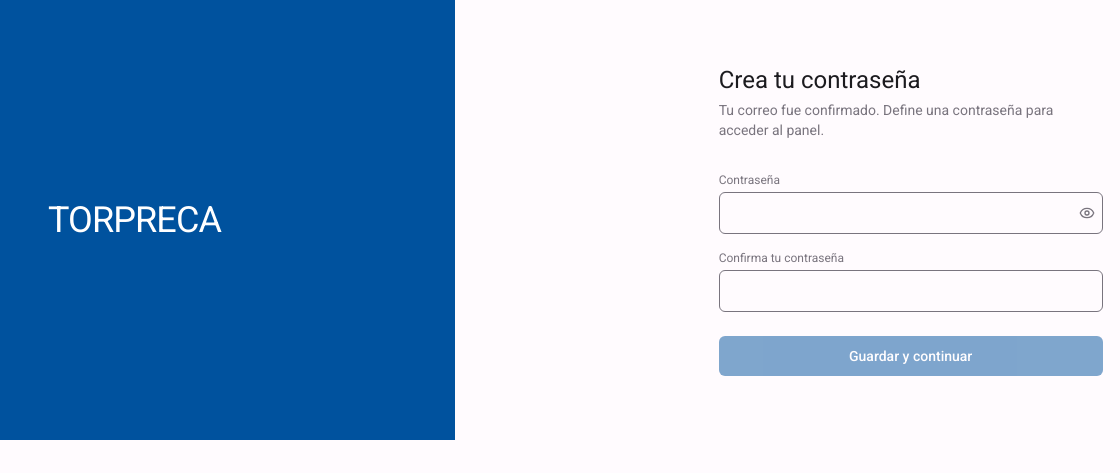
Test: SetPasswordPage › shows an error when the passwords don't match
This screenshot has width=1120, height=473.
In the password field labelled "Contraseña": (911, 213) [719, 192, 1103, 234], type "supersecret1"
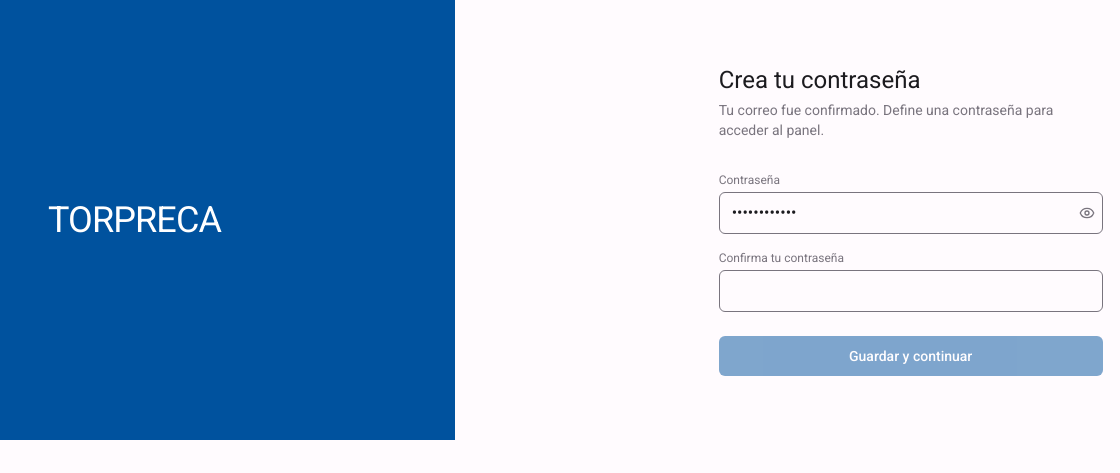
In the password field labelled "Confirma tu contraseña": (911, 291) [719, 270, 1103, 312], type "different1"
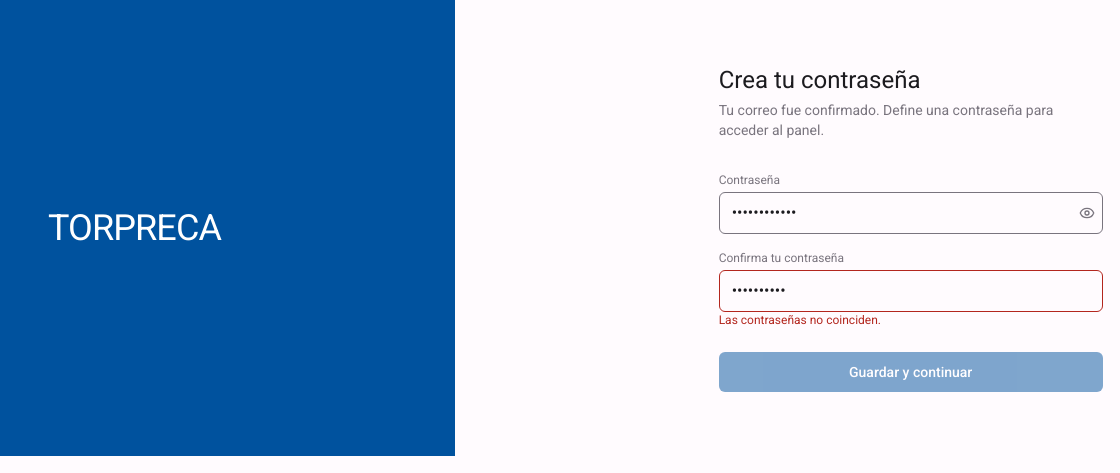
Expected: the text "Las contraseñas no coinciden." is shown, [719, 313, 881, 327]
